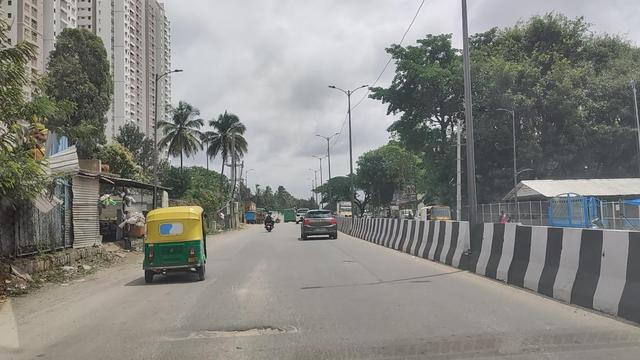LMV: (145, 206, 207, 279), (302, 210, 336, 239), (263, 211, 275, 234)
RoadDamages: (169, 319, 306, 346)
